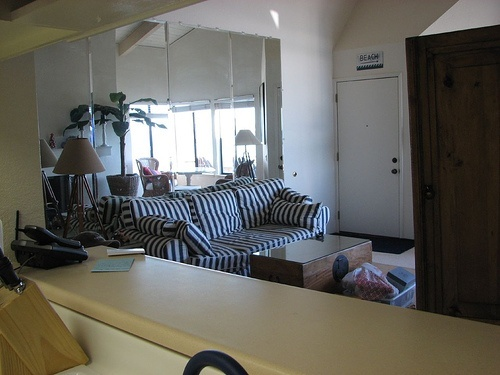chair: (133, 159, 179, 197)
pottedplant: (65, 90, 170, 197)
sofa: (119, 177, 331, 278)
